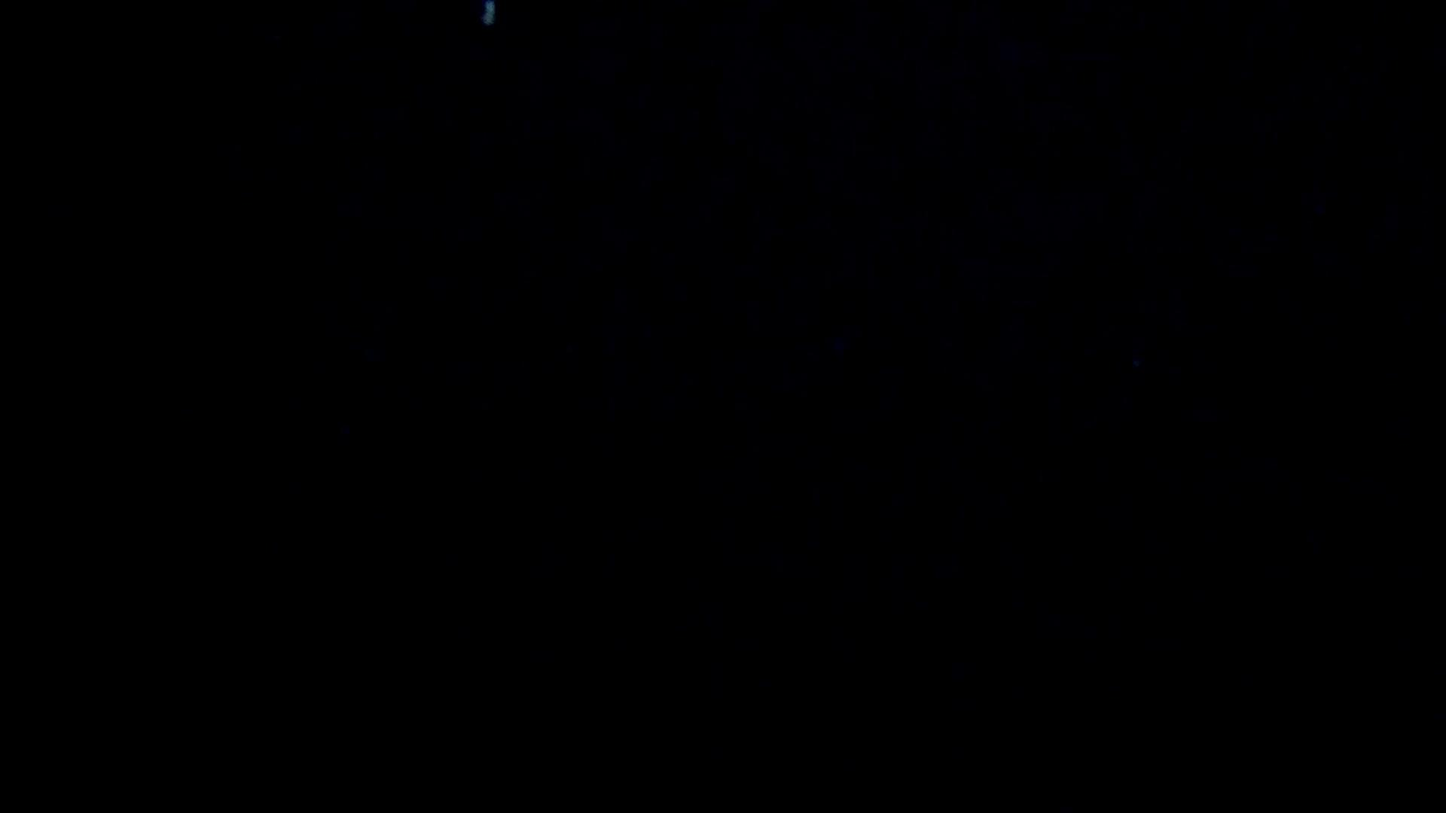organism: (480, 0, 501, 31)
